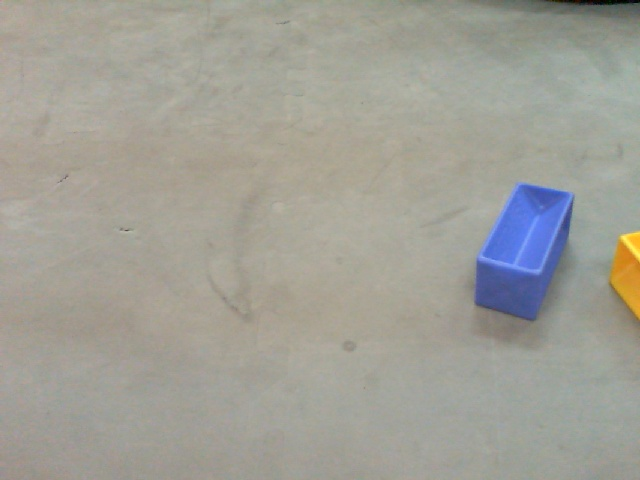BlueSample: (469, 180, 577, 330)
YellowSample: (609, 225, 640, 324)
